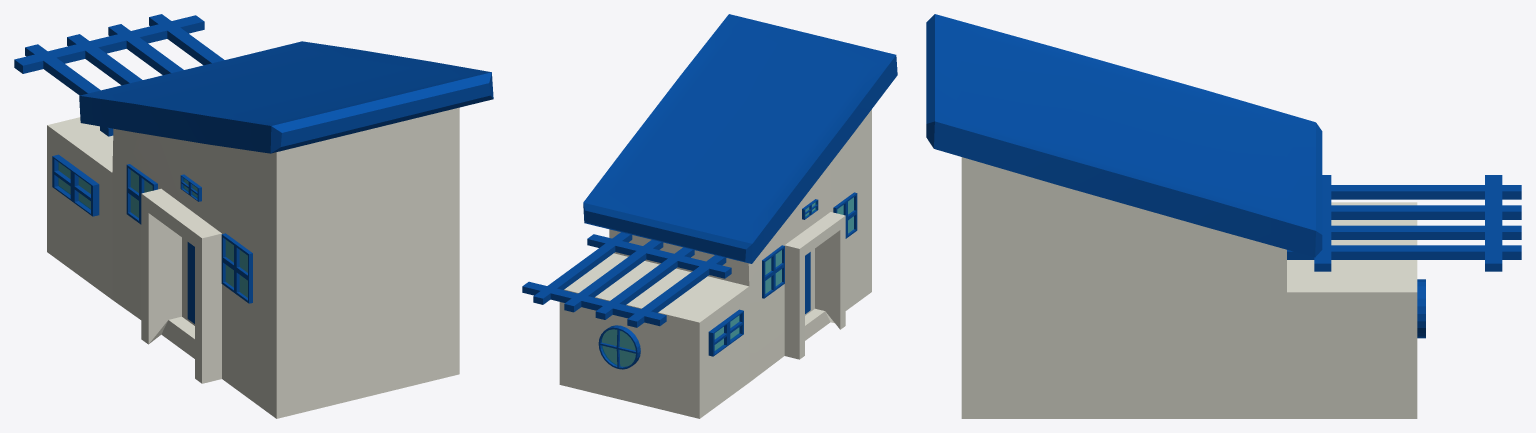
Rendered from fillerBuilding_03.fbx.
3 views of the same model, side by side, from view 1: azimuth 30°, elevation 25°; view 2: azimuth 150°, elevation 25°; view 3: azimuth 270°, elevation 25° (orthographic). The views are drawn at different scales.
Visible parts, largest first — view 1: polySurface109; view 2: polySurface109; view 3: polySurface109.
Boxes of the visible parts, box(x1,y1,x2,y2) form: polySurface109: box(14, 14, 493, 418); polySurface109: box(522, 14, 897, 418); polySurface109: box(926, 14, 1521, 418).
Size of the model in its own units: 3.34 by 4.39 by 7.73.
